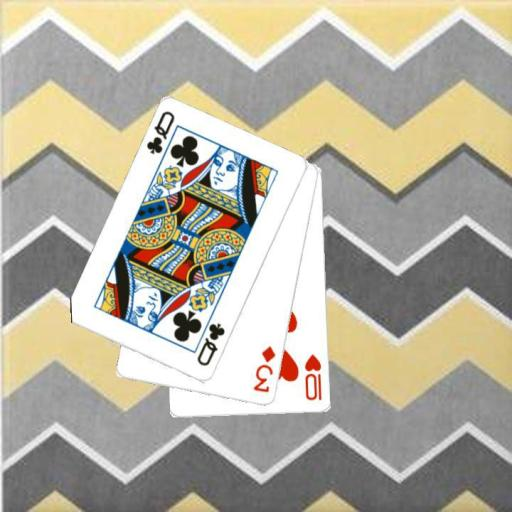10H: (302, 351, 324, 402)
3D: (251, 343, 278, 395)
QC: (193, 320, 227, 368), (144, 108, 177, 157)
